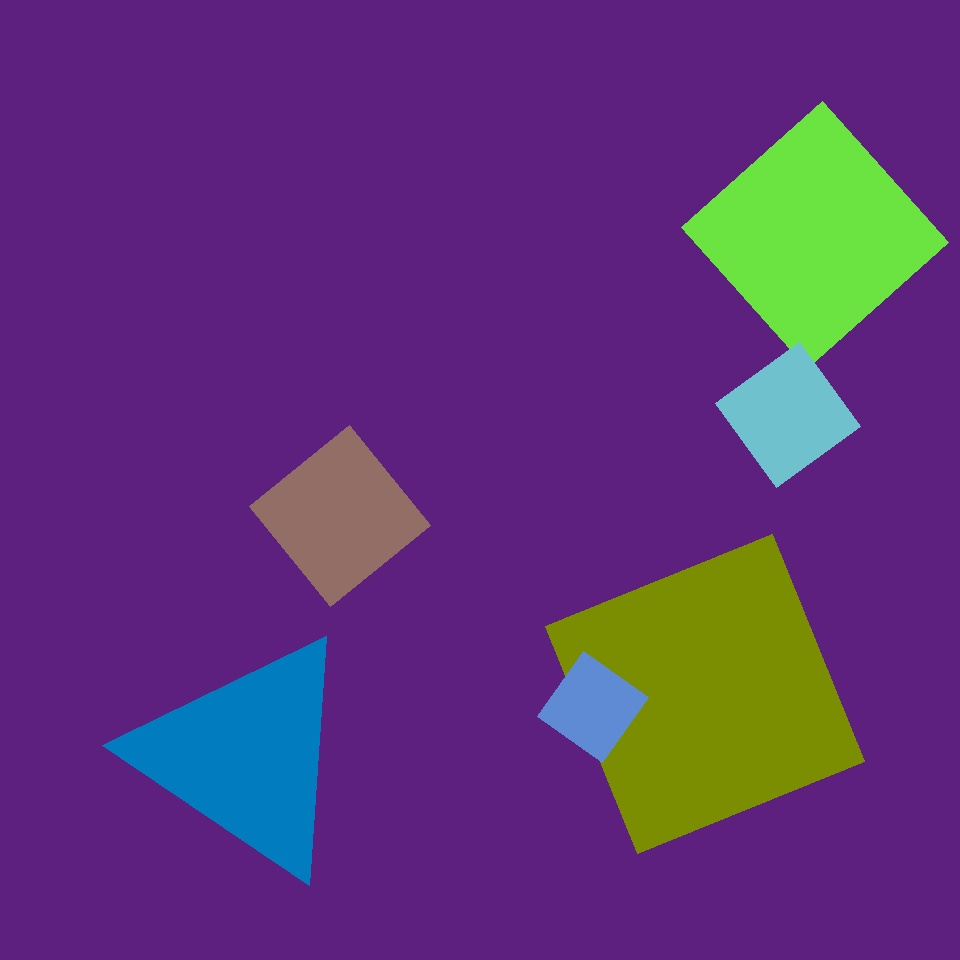circle: (134, 631, 358, 880), (529, 698, 684, 873), (183, 723, 343, 890)
square: (546, 534, 864, 854), (682, 101, 948, 368), (250, 426, 431, 606), (62, 694, 218, 850), (715, 343, 860, 488), (537, 652, 648, 762)
triangle: (606, 283, 857, 535)
